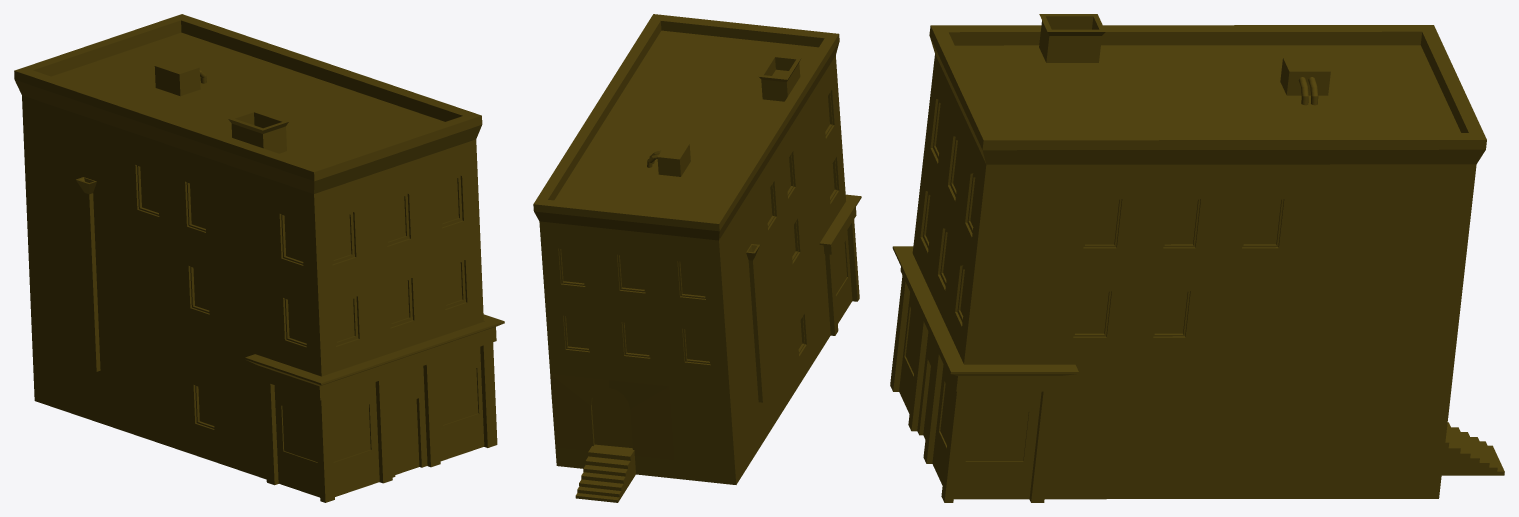
Rendered from building_extra.glb.
3 views of the same model, side by side, from view 1: azimuth 30°, elevation 25°; view 2: azimuth 150°, elevation 25°; view 3: azimuth 270°, elevation 25° (orthographic). The views are drawn at different scales.
Visible parts, largest first — view 1: mesh_id12, mesh_id16, mesh_id14, mesh_id15, mesh_id13, mesh_id7, mesh_id9, mesh_id8, mesh_id20, mesh_id17, mesh_id19; view 2: mesh_id12, mesh_id15, mesh_id16, mesh_id13, mesh_id8, mesh_id14, mesh_id18, mesh_id20, mesh_id19, mesh_id7; view 3: mesh_id12, mesh_id15, mesh_id16, mesh_id13, mesh_id14, mesh_id8, mesh_id7, mesh_id19, mesh_id9.
Part boxes in pixels (x1,y1,x2,y2): mesh_id12: [22, 95, 483, 455]; mesh_id16: [14, 14, 482, 193]; mesh_id14: [245, 314, 504, 502]; mesh_id15: [51, 32, 444, 165]; mesh_id13: [33, 70, 487, 479]; mesh_id7: [282, 368, 478, 462]; mesh_id9: [332, 176, 462, 341]; mesh_id8: [140, 167, 306, 425]; mesh_id20: [76, 177, 100, 371]; mesh_id17: [392, 399, 419, 474]; mesh_id19: [154, 59, 200, 96]; mesh_id12: [539, 55, 845, 465]; mesh_id15: [554, 30, 818, 217]; mesh_id16: [533, 14, 839, 240]; mesh_id13: [550, 54, 857, 502]; mesh_id8: [561, 96, 834, 361]; mesh_id14: [820, 194, 861, 335]; mesh_id18: [591, 388, 632, 447]; mesh_id20: [746, 244, 764, 402]; mesh_id19: [657, 141, 690, 176]; mesh_id7: [833, 242, 846, 294]; mesh_id12: [912, 20, 1476, 473]; mesh_id15: [955, 45, 1460, 133]; mesh_id16: [929, 25, 1486, 164]; mesh_id13: [903, 14, 1504, 499]; mesh_id14: [890, 246, 1078, 502]; mesh_id8: [1075, 199, 1281, 333]; mesh_id7: [905, 309, 1028, 460]; mesh_id19: [1280, 57, 1330, 95]; mesh_id9: [926, 103, 977, 315].
Size of the model in its own units: 0.1543 by 0.1963 by 0.2549.
12 materials, 12 textured.
